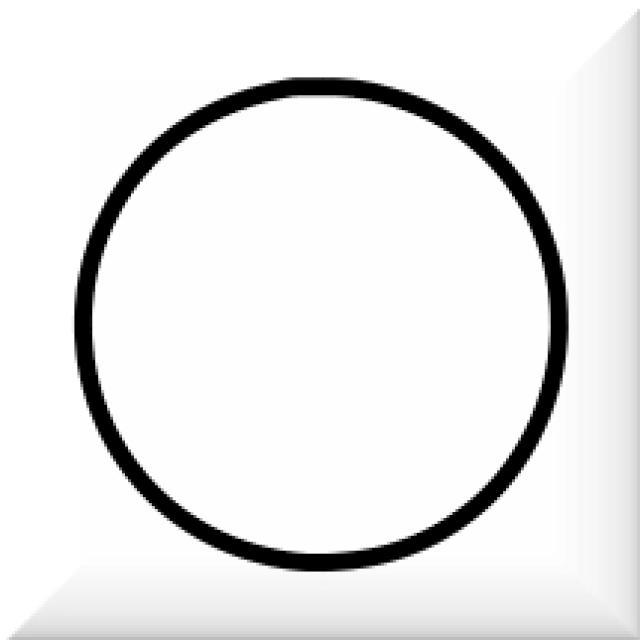Circle: (70, 71, 570, 576)
